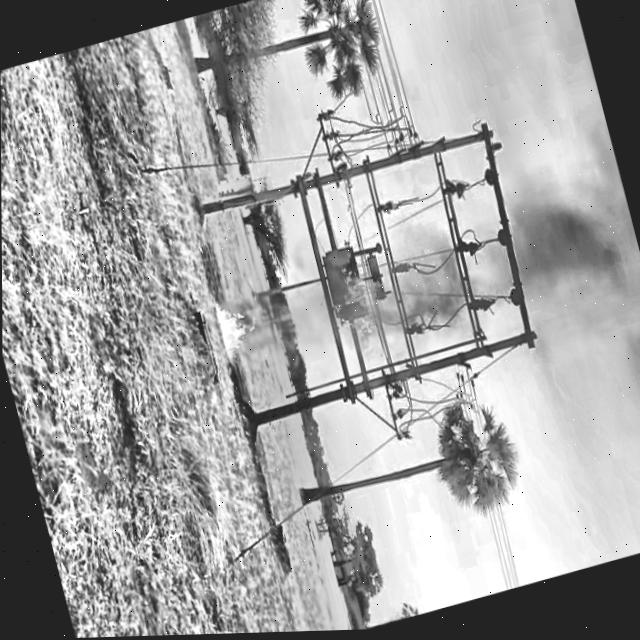Fire: (325, 256, 403, 357), (199, 277, 268, 374)
